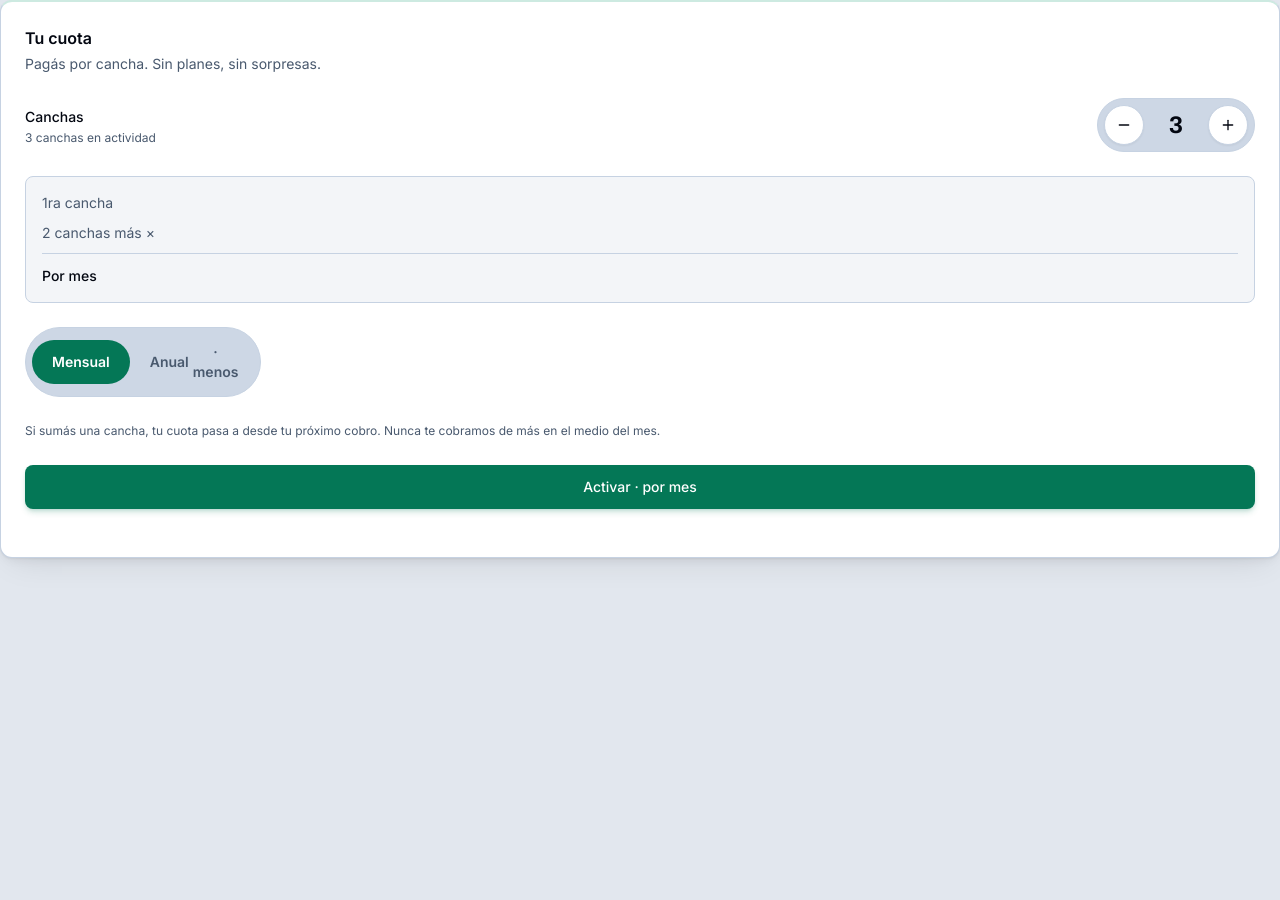
CuotaSection — manejo de errores › 501 (kill switch del flag) muestra un mensaje que dice qué hacer, no el código crudo
Click the button "Activar · por mes": (640,486) [25,464,1255,508]
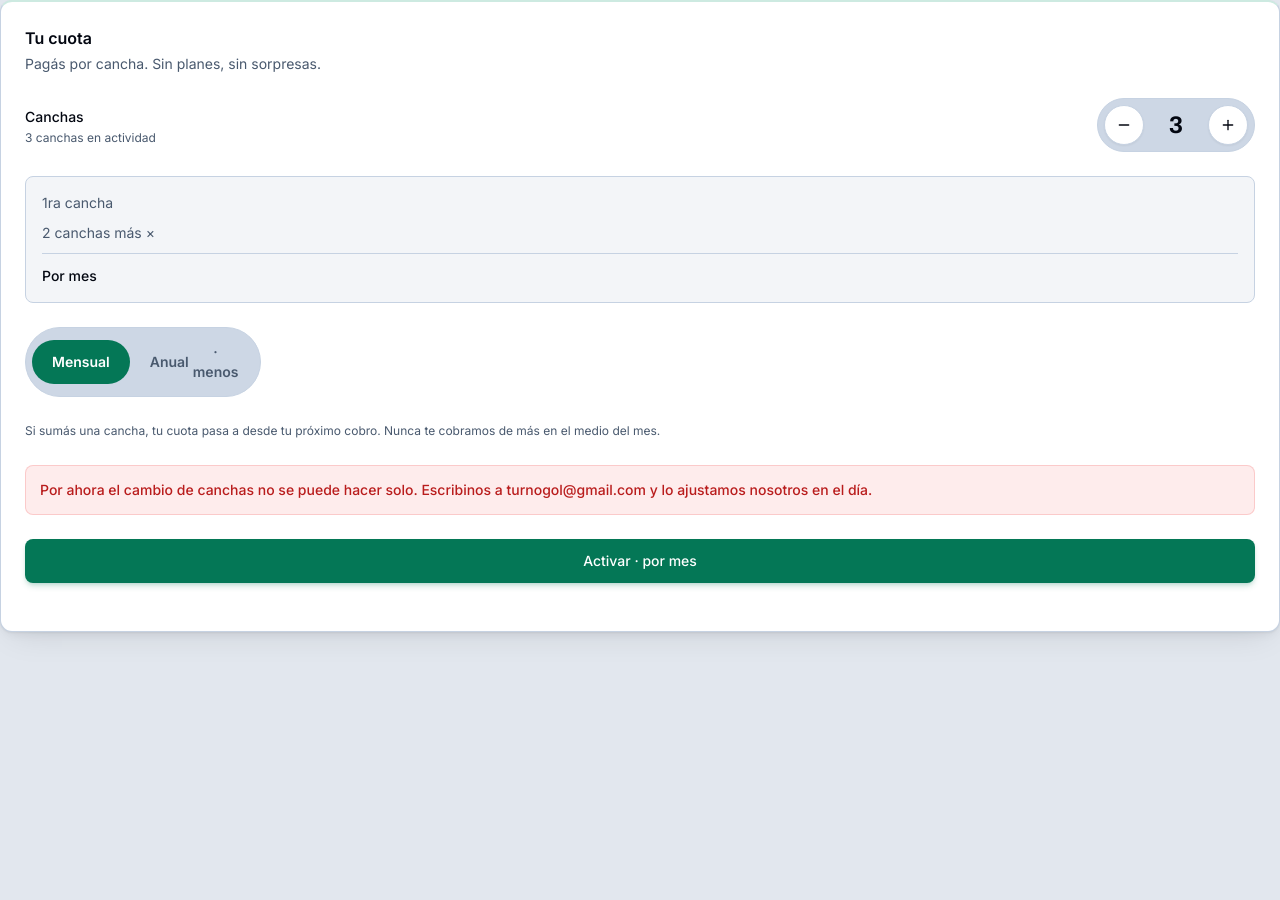
Check: the message shows "no se puede hacer solo", box [40,480,872,498]
Check: the message shows "turnogol@gmail.com", box [40,480,872,498]
